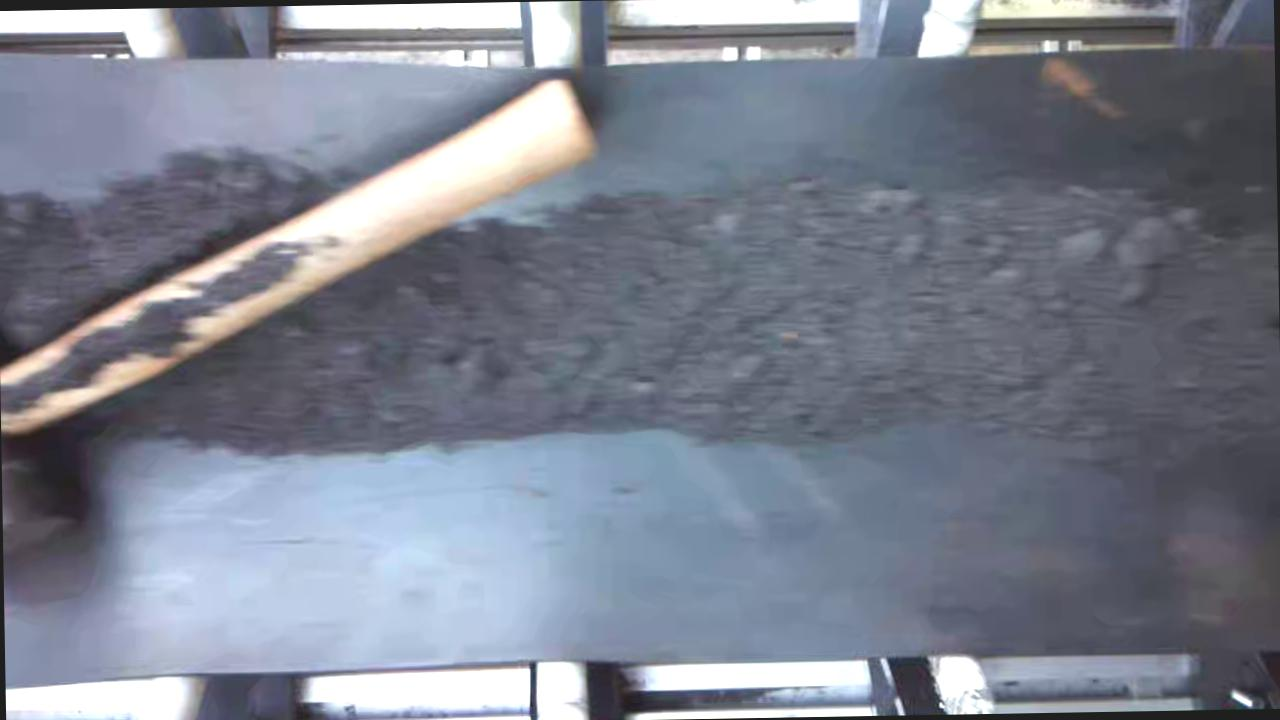conveyor: (0, 59, 1280, 658)
